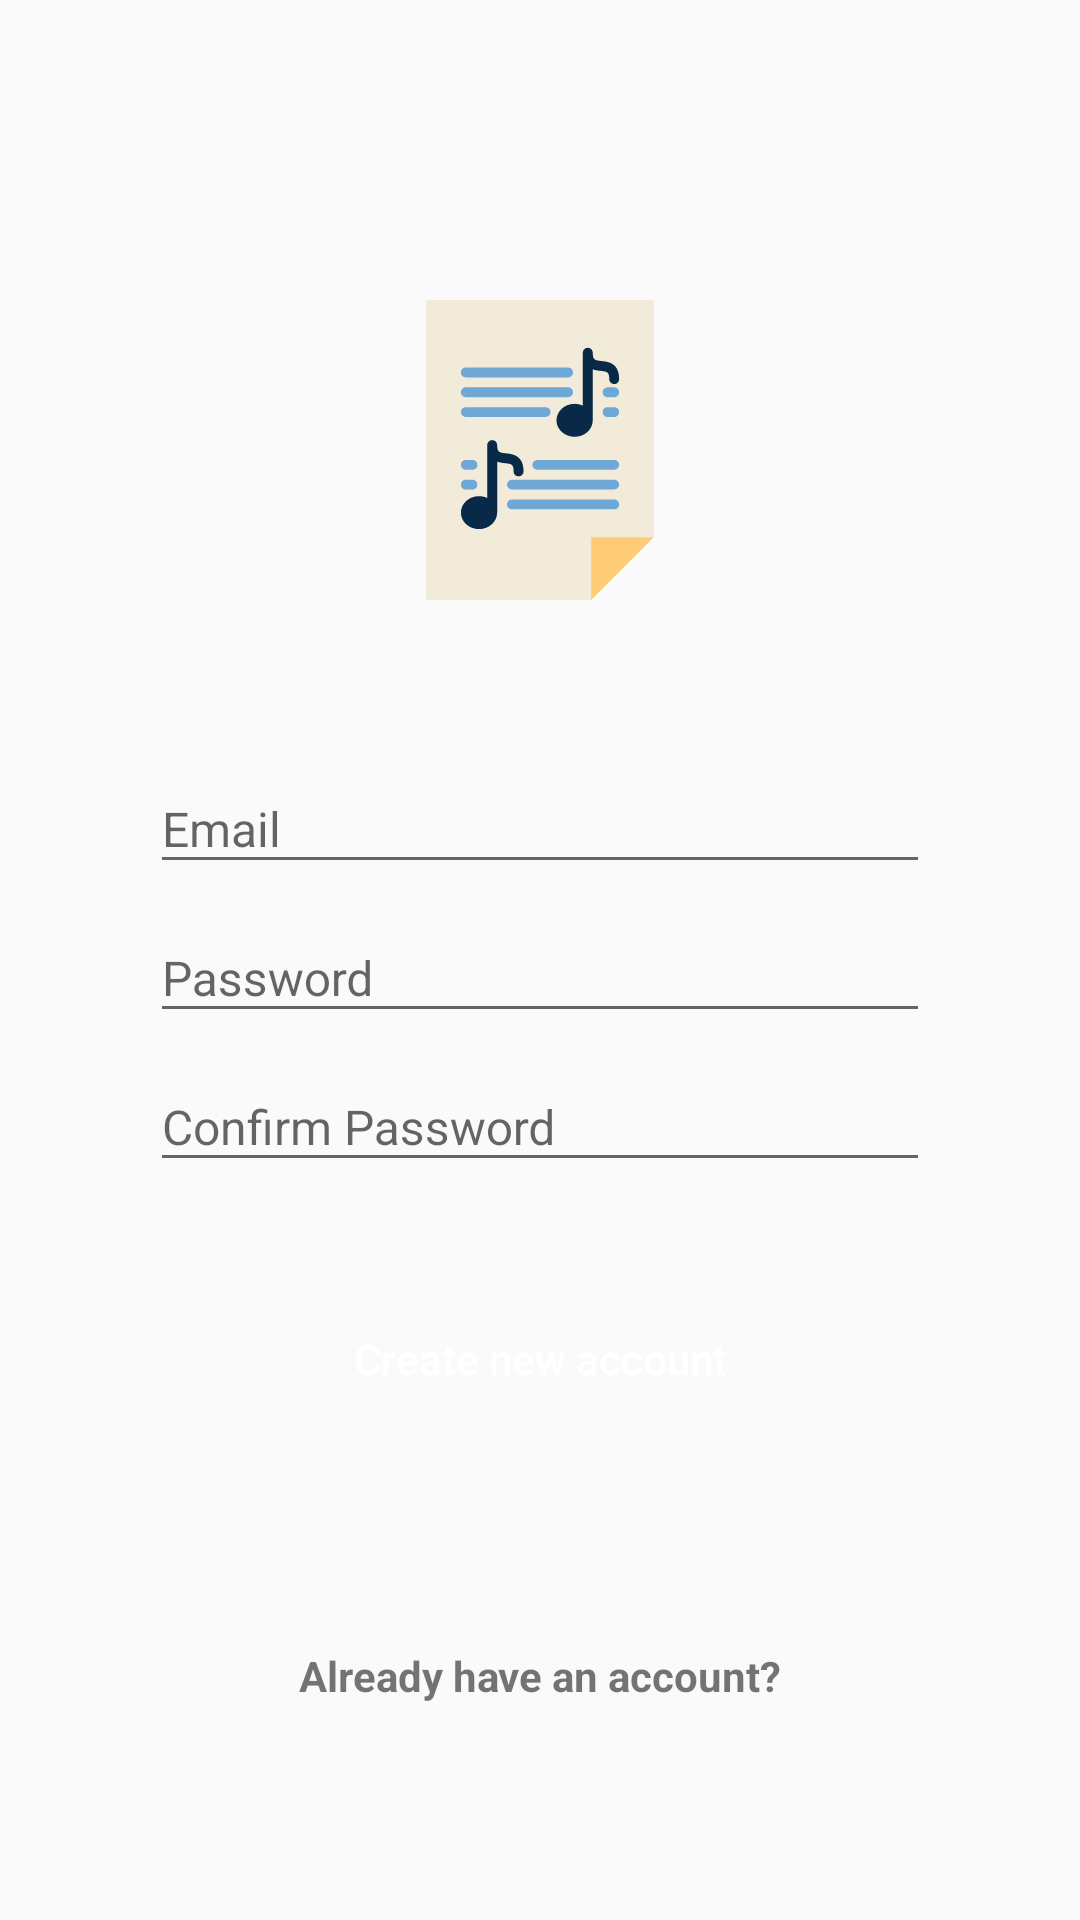

Screen size 1080w x 1920h. Icon name, then its center in pixels as (x=x, y=y):
sheet music: (x=540, y=450)
